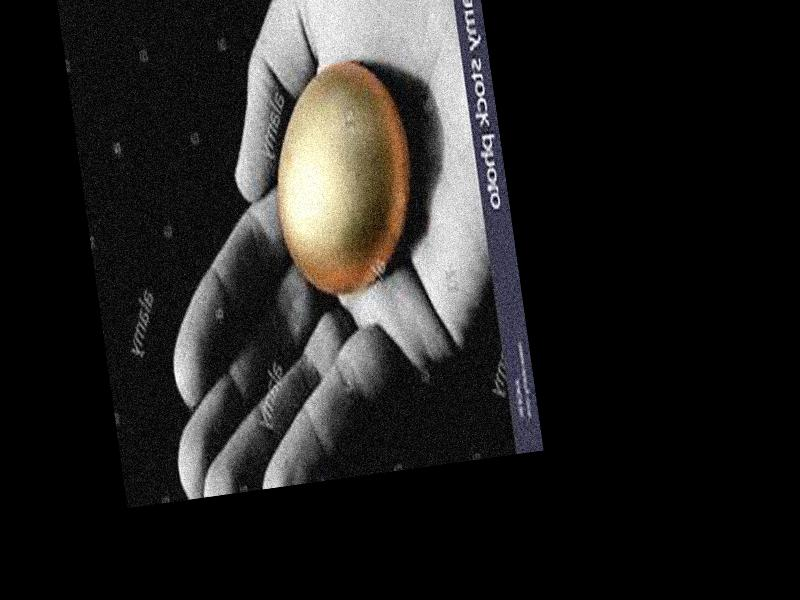Eggs: (260, 58, 424, 302)
